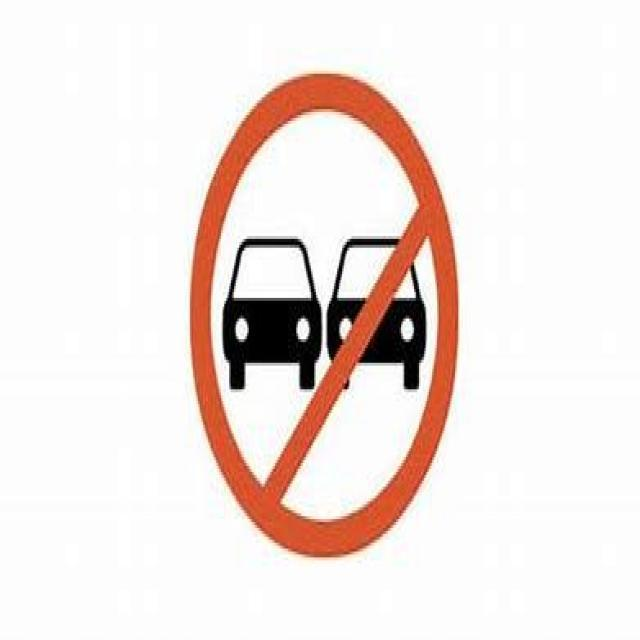overtaking prohibited: (188, 70, 463, 562)
